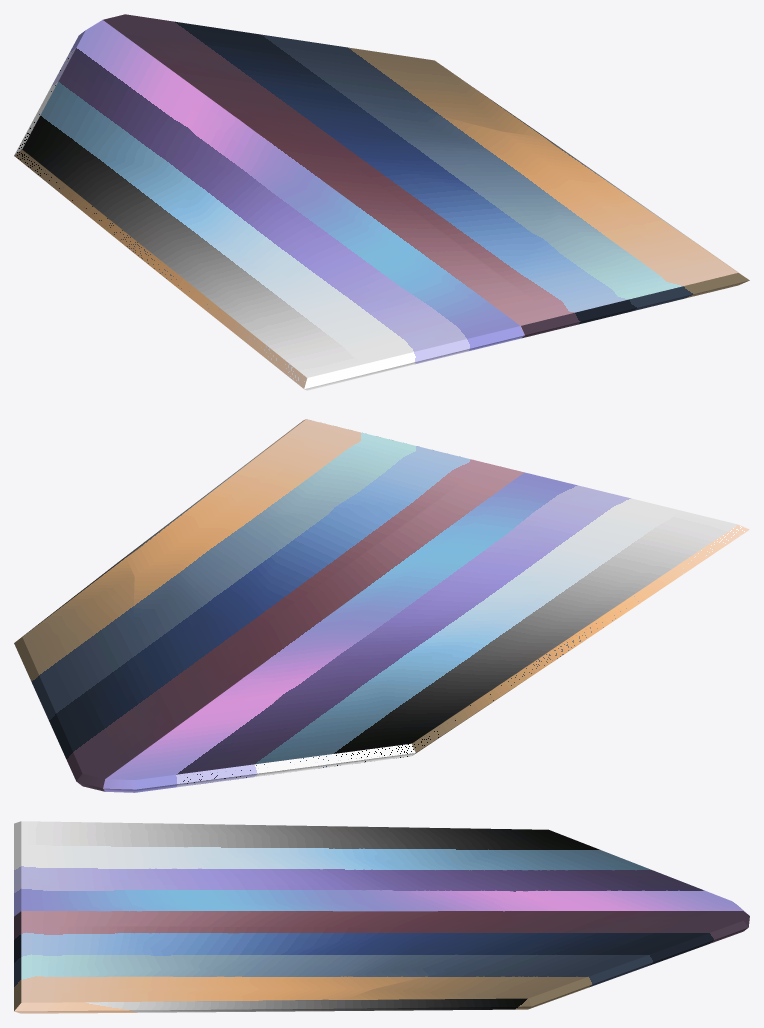
The model's file is P_AP23WallPosterCello.glb.
The picture shows the model from 3 angles, top to bottom: view 1: azimuth 30°, elevation 25°; view 2: azimuth 150°, elevation 25°; view 3: azimuth 270°, elevation 25°; orthographic projection. The views are drawn at different scales.
Visible parts, largest first — view 1: P_AP23WallPosterCello; view 2: P_AP23WallPosterCello; view 3: P_AP23WallPosterCello.
Part boxes in pixels (<box>): P_AP23WallPosterCello: <box>14,14,749,390</box>; P_AP23WallPosterCello: <box>14,419,749,792</box>; P_AP23WallPosterCello: <box>14,821,749,1013</box>.
Bounding box in the file's own units: 0.9192 × 0.025 × 1.52.
Materials: 1 (1 with a texture image).
